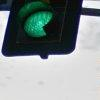Traffic light: (2, 2, 77, 68)
